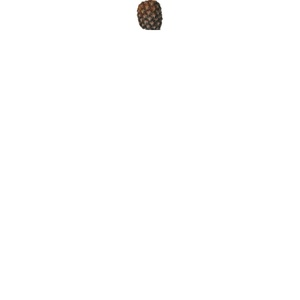abacaxi: (136, 1, 165, 35)
